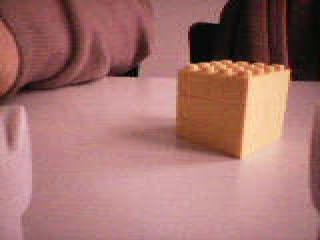legocube: (173, 56, 293, 163)
